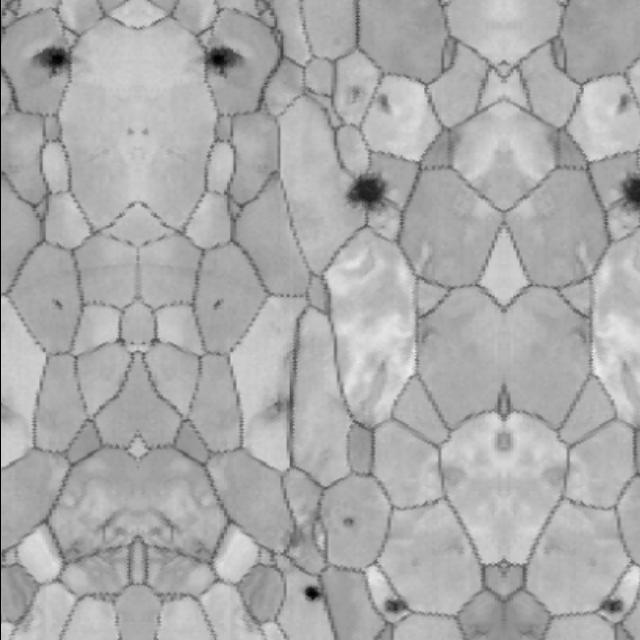good_void: (342, 174, 387, 213), (143, 509, 176, 549), (96, 509, 129, 549), (199, 43, 236, 74), (36, 43, 73, 74), (182, 537, 219, 567), (53, 537, 90, 567), (275, 522, 306, 552), (618, 174, 640, 213), (262, 393, 287, 425), (378, 595, 403, 621), (601, 595, 626, 621), (343, 82, 366, 109), (371, 93, 398, 114), (607, 93, 633, 114), (301, 577, 325, 599), (569, 321, 587, 347), (418, 321, 435, 347), (208, 294, 227, 315), (45, 294, 64, 315), (466, 623, 489, 640), (339, 513, 358, 533), (516, 623, 538, 640), (142, 331, 160, 348), (112, 331, 130, 348), (0, 397, 10, 425), (137, 122, 151, 141), (121, 122, 135, 141)
